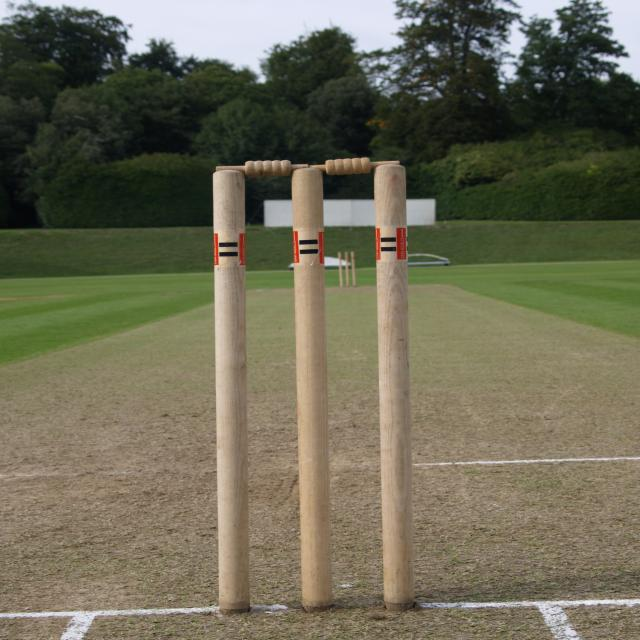stump: (210, 158, 414, 611), (337, 251, 367, 288)
